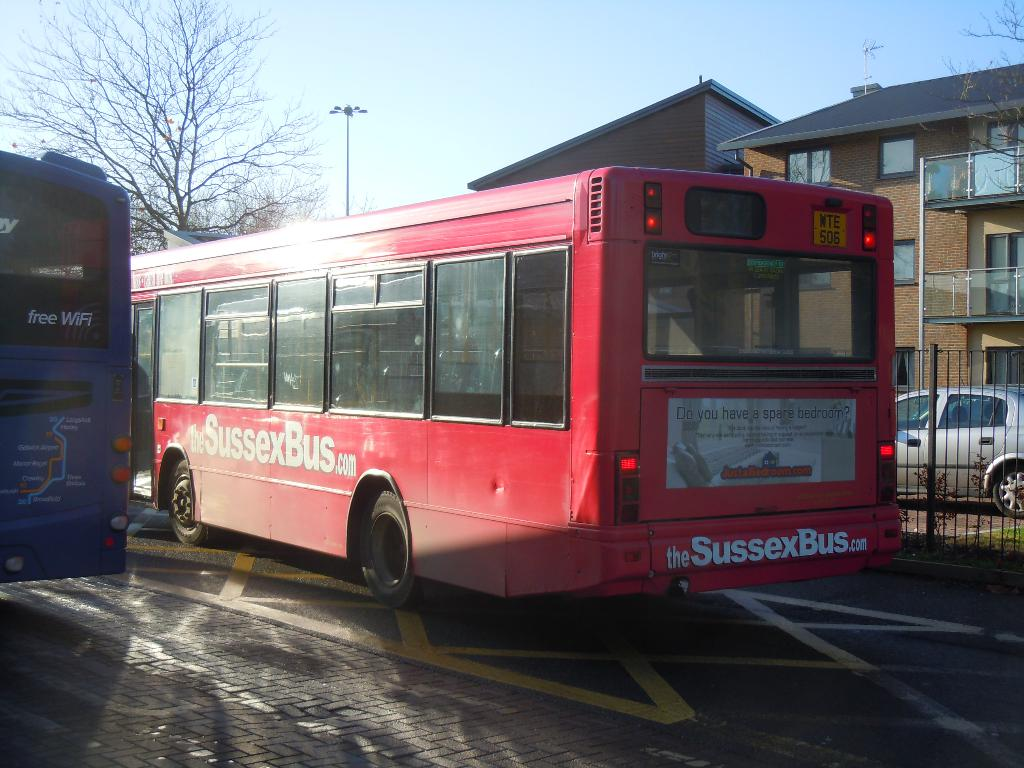Bus: (128, 163, 906, 608), (1, 148, 128, 583)
